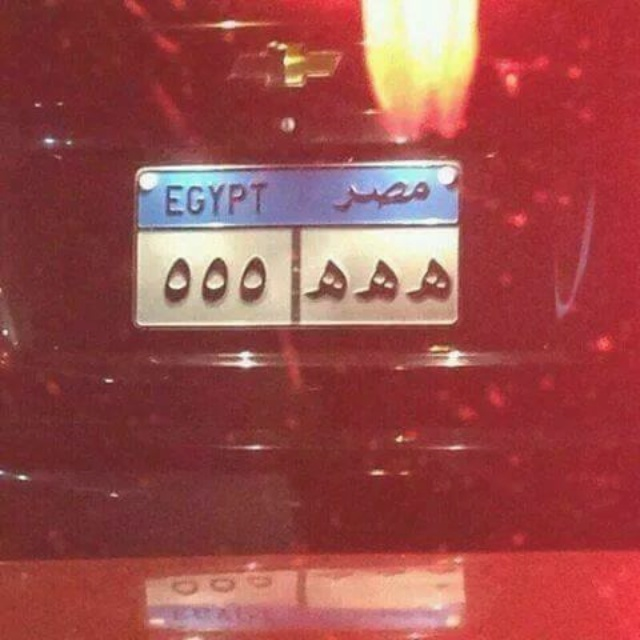License Plate: (125, 161, 464, 336)
